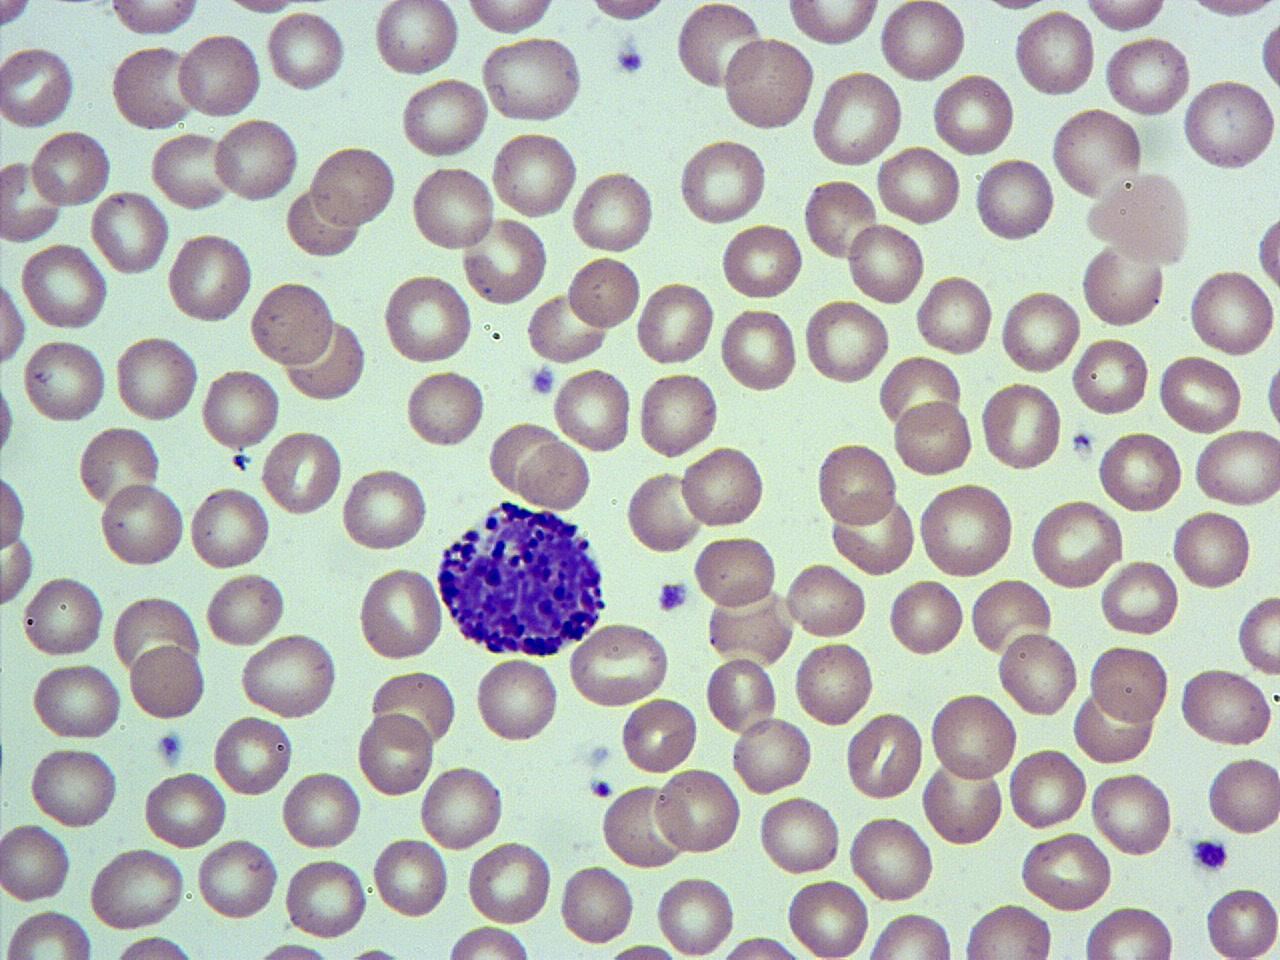Platelets: (1186, 834, 1232, 874), (156, 726, 186, 770), (656, 578, 690, 614), (583, 739, 615, 773), (529, 363, 558, 400), (614, 44, 646, 77), (1068, 429, 1096, 456), (588, 776, 616, 801)
RBC: (1084, 170, 1192, 264), (918, 480, 1016, 580), (720, 34, 816, 135), (810, 68, 906, 169), (1180, 75, 1278, 173), (477, 35, 586, 124), (1049, 104, 1145, 202), (237, 631, 340, 722), (1027, 498, 1125, 592), (567, 621, 671, 709), (355, 563, 444, 664), (380, 271, 474, 366), (458, 212, 550, 308), (164, 228, 255, 326), (846, 810, 936, 906), (88, 843, 186, 931), (672, 2, 766, 94), (1176, 665, 1276, 750), (676, 135, 768, 228), (489, 129, 581, 222), (96, 480, 187, 572), (927, 690, 1017, 784), (653, 764, 743, 858), (27, 742, 121, 832), (802, 295, 892, 388), (417, 760, 506, 854), (978, 378, 1064, 474), (19, 241, 110, 332), (1095, 426, 1185, 516), (340, 464, 431, 554), (678, 440, 767, 532), (473, 653, 561, 746), (212, 115, 301, 206), (1186, 266, 1276, 357), (307, 143, 399, 232), (248, 278, 337, 370), (113, 331, 201, 424), (77, 422, 164, 513), (1077, 242, 1169, 330), (1018, 830, 1114, 914), (110, 42, 199, 132), (21, 336, 110, 426), (409, 163, 498, 253), (920, 757, 1005, 851), (260, 425, 345, 518), (89, 185, 172, 279), (1012, 6, 1096, 101), (399, 75, 491, 160), (570, 166, 656, 258), (815, 439, 900, 531), (792, 636, 876, 730), (175, 30, 263, 119), (465, 839, 554, 926), (187, 482, 272, 574), (973, 153, 1056, 246), (844, 708, 925, 803), (1089, 768, 1174, 858), (20, 571, 106, 661), (367, 666, 458, 750), (1006, 742, 1090, 834), (756, 792, 844, 878), (600, 781, 684, 870), (999, 286, 1083, 376), (878, 0, 968, 85), (1155, 352, 1245, 437), (1103, 34, 1193, 118), (636, 369, 720, 460), (30, 659, 122, 742), (634, 277, 716, 370), (877, 352, 965, 438), (968, 574, 1055, 659), (784, 874, 872, 960), (210, 712, 295, 800), (996, 630, 1079, 720), (930, 72, 1016, 158), (282, 855, 370, 940), (719, 306, 800, 396), (355, 708, 435, 800), (370, 0, 462, 81), (402, 366, 488, 452), (194, 837, 280, 922), (264, 7, 348, 95), (719, 219, 806, 303), (846, 219, 928, 308), (200, 365, 282, 454), (730, 712, 814, 798), (654, 871, 737, 959), (1191, 427, 1280, 508), (149, 129, 235, 213), (1170, 506, 1254, 592), (914, 271, 996, 359), (690, 532, 780, 612), (280, 768, 364, 853), (891, 395, 975, 480), (1069, 333, 1151, 419), (624, 468, 703, 557), (552, 365, 632, 454), (204, 568, 288, 650), (1099, 556, 1181, 640), (876, 145, 962, 227), (802, 175, 880, 265), (558, 860, 636, 950), (142, 770, 229, 850), (1087, 642, 1171, 724), (27, 127, 113, 207), (0, 42, 77, 130), (886, 576, 966, 659), (620, 696, 700, 777), (370, 836, 450, 919), (784, 562, 868, 640), (524, 291, 612, 366), (1204, 752, 1280, 838), (0, 818, 74, 906), (128, 640, 207, 722), (703, 654, 780, 736), (285, 182, 362, 261), (565, 252, 642, 332), (516, 437, 592, 514), (1203, 882, 1279, 960), (0, 155, 65, 244), (1080, 902, 1176, 960), (959, 901, 1054, 959), (1, 906, 95, 960), (784, 0, 883, 49), (864, 908, 956, 959), (105, 0, 207, 38), (461, 0, 562, 37), (1236, 592, 1280, 676), (441, 924, 536, 960), (1081, 0, 1173, 34), (0, 270, 28, 375), (104, 932, 204, 960), (711, 934, 813, 960), (1253, 199, 1279, 299), (580, 0, 678, 26), (0, 468, 28, 552), (1256, 10, 1280, 102), (0, 0, 37, 30)
WBC: (432, 494, 614, 661)
